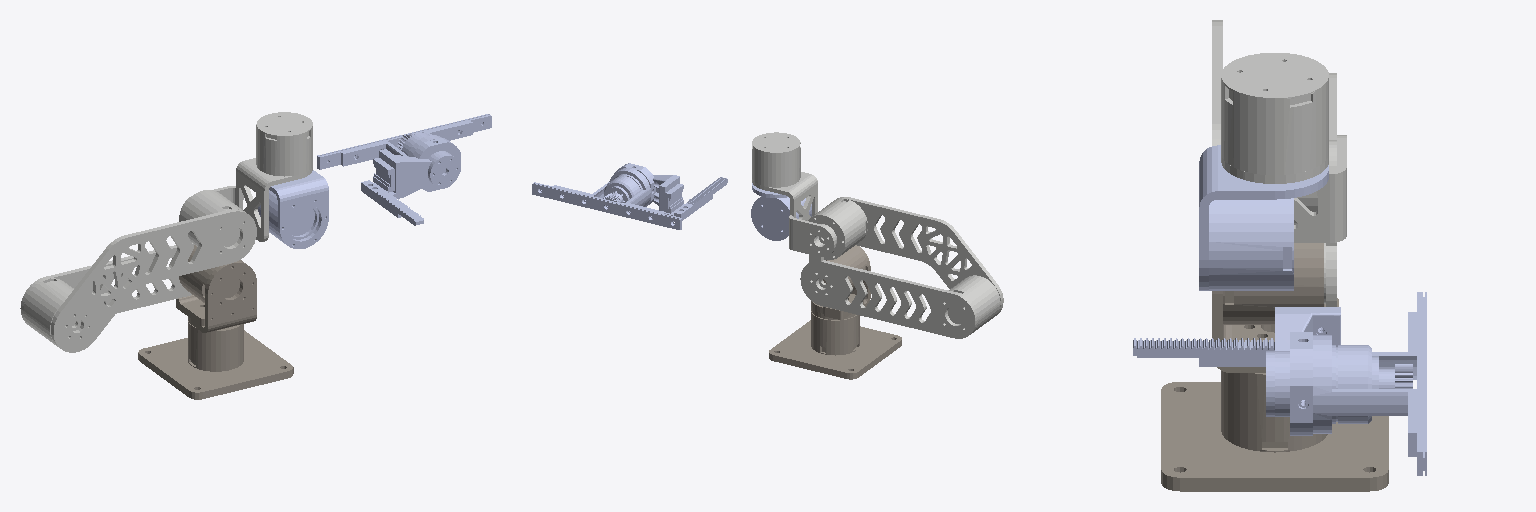
The robot description file, URDF, robot "panther_description":
<?xml version="1.0" encoding="utf-8"?>
<!-- This URDF was automatically created by SolidWorks to URDF Exporter! Originally created by [author] ([email redacted]) 
     Commit Version: 1.6.0-4-g7f85cfe  Build Version: 1.6.7995.38578
     For more information, please see http://wiki.ros.org/sw_urdf_exporter -->
<robot
  name="panther_description">
  <link
    name="base_link">
    <inertial>
      <origin
        xyz="0 -4.4E-05 0.028999"
        rpy="0 0 0" />
      <mass
        value="0.3" />
      <inertia
        ixx="0.000124"
        ixy="0"
        ixz="0"
        iyy="0.000124"
        iyz="0"
        izz="0.000143" />
    </inertial>
    <visual>
      <origin
        xyz="0 0 0"
        rpy="0 0 0" />
      <geometry>
        <mesh
          filename="package://panther_description/meshes/base_link.STL" />
      </geometry>
      <material
        name="">
        <color
          rgba="0.64706 0.61961 0.58824 1" />
      </material>
    </visual>
    <collision>
      <origin
        xyz="0 0 0"
        rpy="0 0 0" />
      <geometry>
        <mesh
          filename="package://panther_description/meshes/base_link.STL" />
      </geometry>
    </collision>
  </link>
  <link
    name="link1">
    <inertial>
      <origin
        xyz="0.00 -0.008491  0.034259"
        rpy="0 0 0" />
      <mass
        value="0.65" />
      <inertia
        ixx="0.000541"
        ixy="-2E-06"
        ixz="1E-06"
        iyy="0.000481"
        iyz="-5E-06"
        izz="0.000362" />
    </inertial>
    <visual>
      <origin
        xyz="0 0 0"
        rpy="0 0 0" />
      <geometry>
        <mesh
          filename="package://panther_description/meshes/link1.STL" />
      </geometry>
      <material
        name="">
        <color
          rgba="0.64706 0.61961 0.58824 1" />
      </material>
    </visual>
    <collision>
      <origin
        xyz="0 0 0"
        rpy="0 0 0" />
      <geometry>
        <mesh
          filename="package://panther_description/meshes/link1.STL" />
      </geometry>
    </collision>
  </link>
  <joint
    name="joint1"
    type="revolute">
    <origin
      xyz="0 0 0.1005"
      rpy="0 0 0" />
    <parent
      link="base_link" />
    <child
      link="link1" />
    <axis
      xyz="0 0 1" />
    <limit
      lower="-3.14"
      upper="3.14"
      effort="3"
      velocity="1" />
  </joint>
  <link
    name="link2">
    <inertial>
      <origin
        xyz="0.124560 0.000000 0.017699"
        rpy="0 0 0" />
      <mass
        value="0.83" />
      <inertia
        ixx="0.000462"
        ixy="0"
        ixz="-0.000548"
        iyy="0.00435"
        iyz="0"
        izz="0.004315" />
    </inertial>
    <visual>
      <origin
        xyz="0 0 0"
        rpy="0 0 0" />
      <geometry>
        <mesh
          filename="package://panther_description/meshes/link2.STL" />
      </geometry>
      <material
        name="">
        <color
          rgba="0.82745 0.82745 0.81961 1" />
      </material>
    </visual>
    <collision>
      <origin
        xyz="0 0 0"
        rpy="0 0 0" />
      <geometry>
        <mesh
          filename="package://panther_description/meshes/link2.STL" />
      </geometry>
    </collision>
  </link>
  <joint
    name="joint2"
    type="revolute">
    <origin
      xyz="0 0 0"
      rpy="1.5708 0 3.1416" />
    <parent
      link="link1" />
    <child
      link="link2" />
    <axis
      xyz="0 0 1" />
    <limit
      lower="-3.14"
      upper="3.14"
      effort="3"
      velocity="1" />
  </joint>
  <link
    name="link3">
    <inertial>
      <origin
        xyz="0.15 0.007521 0.017264"
        rpy="0 0 0" />
      <mass
        value="0.87" />
      <inertia
        ixx="0.000541"
        ixy="-0.000276"
        ixz="-0.000537"
        iyy="0.004264"
        iyz="7.6E-05"
        izz="0.004338" />
    </inertial>
    <visual>
      <origin
        xyz="0 0 0"
        rpy="0 0 0" />
      <geometry>
        <mesh
          filename="package://panther_description/meshes/link3.STL" />
      </geometry>
      <material
        name="">
        <color
          rgba="0.82745 0.82745 0.81961 1" />
      </material>
    </visual>
    <collision>
      <origin
        xyz="0 0 0"
        rpy="0 0 0" />
      <geometry>
        <mesh
          filename="package://panther_description/meshes/link3.STL" />
      </geometry>
    </collision>
  </link>
  <joint
    name="joint3"
    type="revolute">
    <origin
      xyz="0.18 0 0"
      rpy="3.1416 0 2.8349" />
    <parent
      link="link2" />
    <child
      link="link3" />
    <axis
      xyz="0 0 1" />
    <limit
      lower="-3.14"
      upper="3.14"
      effort="3"
      velocity="1" />
  </joint>
  <link
    name="link4">
    <inertial>
      <origin
        xyz="0.08 -0.053910 0.004474"
        rpy="0 0 0" />
      <mass
        value="0.427" />
      <inertia
        ixx="0.000559"
        ixy="-0.000294"
        ixz="-0.000102"
        iyy="0.000489"
        iyz="0.000104"
        izz="0.000773" />
    </inertial>
    <visual>
      <origin
        xyz="0 0 0"
        rpy="0 0 0" />
      <geometry>
        <mesh
          filename="package://panther_description/meshes/link4.STL" />
      </geometry>
      <material
        name="">
        <color
          rgba="0.82745 0.82745 0.81961 1" />
      </material>
    </visual>
    <collision>
      <origin
        xyz="0 0 0"
        rpy="0 0 0" />
      <geometry>
        <mesh
          filename="package://panther_description/meshes/link4.STL" />
      </geometry>
    </collision>
  </link>
  <joint
    name="joint4"
    type="revolute">
    <origin
      xyz="0.18881 0 0"
      rpy="3.1416 0 -0.30668" />
    <parent
      link="link3" />
    <child
      link="link4" />
    <axis
      xyz="0 0 1" />
    <limit
      lower="-3.14"
      upper="3.14"
      effort="3"
      velocity="1" />
  </joint>
  <link
    name="link5">
    <inertial>
      <origin
        xyz="0.013 0.000000  -0.007913"
        rpy="0 0 0" />
      <mass
        value="0.39" />
      <inertia
        ixx="0.000251"
        ixy="0"
        ixz="0"
        iyy="0.000248"
        iyz="-1.5E-05"
        izz="0.000172" />
    </inertial>
    <visual>
      <origin
        xyz="0 0 0"
        rpy="0 0 0" />
      <geometry>
        <mesh
          filename="package://panther_description/meshes/link5.STL" />
      </geometry>
      <material
        name="">
        <color
          rgba="0.79216 0.81961 0.93333 1" />
      </material>
    </visual>
    <collision>
      <origin
        xyz="0 0 0"
        rpy="0 0 0" />
      <geometry>
        <mesh
          filename="package://panther_description/meshes/link5.STL" />
      </geometry>
    </collision>
  </link>
  <joint
    name="joint5"
    type="revolute">
    <origin
      xyz="0.08 0 0"
      rpy="-1.5708 1.5708 0" />
    <parent
      link="link4" />
    <child
      link="link5" />
    <axis
      xyz="0 0 1" />
    <limit
      lower="-3.14"
      upper="3.14"
      effort="3"
      velocity="1" />
  </joint>
  <link
    name="link6">
    <inertial>
      <origin
        xyz="0.000018 -0.000159 0.09"
        rpy="0 0 0" />
      <mass
        value="0.41" />
      <inertia
        ixx="0.002121"
        ixy="4E-06"
        ixz="0"
        iyy="0.002522"
        iyz="1E-06"
        izz="0.000475" />
    </inertial>
    <visual>
      <origin
        xyz="0 0 0"
        rpy="0 0 0" />
      <geometry>
        <mesh
          filename="package://panther_description/meshes/link6.STL" />
      </geometry>
      <material
        name="">
        <color
          rgba="0.82745 0.82745 0.81961 1" />
      </material>
    </visual>
    <collision>
      <origin
        xyz="0 0 0"
        rpy="0 0 0" />
      <geometry>
        <mesh
          filename="package://panther_description/meshes/link6.STL" />
      </geometry>
    </collision>
  </link>
  <joint
    name="joint6"
    type="revolute">
    <origin
      xyz="0 -0.036 0"
      rpy="1.5708 0 0" />
    <parent
      link="link5" />
    <child
      link="link6" />
    <axis
      xyz="0 0 1" />
    <limit
      lower="-3.14"
      upper="3.14"
      effort="3"
      velocity="1" />
  </joint>
  <link
    name="gripper_centor_link">
    <inertial>
      <origin
        xyz="-0.10705 -0.00028388 -3.5921E-09"
        rpy="0 0 0" />
      <mass
        value="0.000" />
      <inertia
        ixx="0.00012365"
        ixy="-5.3605E-07"
        ixz="-1.3099E-12"
        iyy="0.00013341"
        iyz="-1.2272E-16"
        izz="3.1522E-05" />
    </inertial>
    <visual>
      <origin
        xyz="0 0 0"
        rpy="0 0 0" />
      <geometry>
        <mesh
          filename="package://panther_description/meshes/gripper_centor_link.STL" />
      </geometry>
      <material
        name="">
        <color
          rgba="0.79216 0.81961 0.93333 1" />
      </material>
    </visual>
    <collision>
      <origin
        xyz="0 0 0"
        rpy="0 0 0" />
      <geometry>
        <mesh
          filename="package://panther_description/meshes/gripper_centor_link.STL" />
      </geometry>
    </collision>
  </link>
  <joint
    name="gripper_centor_joint"
    type="fixed">
    <origin
      xyz="0 0 0.148"
      rpy="0 -1.5708 0" />
    <parent
      link="link6" />
    <child
      link="gripper_centor_link" />
    <axis
      xyz="0 0 0" />
    <limit
      lower="-3.14"
      upper="3.14"
      effort="3"
      velocity="1" />
  </joint>
  <link
    name="gripper_1_link">
    <inertial>
      <origin
        xyz="-0.057427 0.0029609 0.0073892"
        rpy="0 0 0" />
      <mass
        value="0.0000" />
      <inertia
        ixx="1.5429E-05"
        ixy="6.9755E-07"
        ixz="6.4561E-07"
        iyy="1.5841E-05"
        iyz="8.9712E-07"
        izz="1.0925E-05" />
    </inertial>
    <visual>
      <origin
        xyz="0 0 0"
        rpy="0 0 0" />
      <geometry>
        <mesh
          filename="package://panther_description/meshes/gripper_1_link.STL" />
      </geometry>
      <material
        name="">
        <color
          rgba="0.79216 0.81961 0.93333 1" />
      </material>
    </visual>
    <collision>
      <origin
        xyz="0 0 0"
        rpy="0 0 0" />
      <geometry>
        <mesh
          filename="package://panther_description/meshes/gripper_1_link.STL" />
      </geometry>
    </collision>
  </link>
  <joint
    name="gripper_1_joint"
    type="prismatic">
    <origin
      xyz="0 0 0.148"
      rpy="0 -1.5708 0" />
    <parent
      link="link6" />
    <child
      link="gripper_1_link" />
    <axis
      xyz="0 0 -1" />
    <limit
      lower="0"
      upper="0.06"
      effort="0.18"
      velocity="1" />
  </joint>
  <link
    name="gripper_2_link">
    <inertial>
      <origin
        xyz="-0.057387 -0.0029433 -0.0075697"
        rpy="0 0 0" />
      <mass
        value="0.000" />
      <inertia
        ixx="1.5197E-05"
        ixy="-6.9738E-07"
        ixz="-6.4563E-07"
        iyy="1.5609E-05"
        iyz="8.9915E-07"
        izz="1.0924E-05" />
    </inertial>
    <visual>
      <origin
        xyz="0 0 0"
        rpy="0 0 0" />
      <geometry>
        <mesh
          filename="package://panther_description/meshes/gripper_2_link.STL" />
      </geometry>
      <material
        name="">
        <color
          rgba="0.79216 0.81961 0.93333 1" />
      </material>
    </visual>
    <collision>
      <origin
        xyz="0 0 0"
        rpy="0 0 0" />
      <geometry>
        <mesh
          filename="package://panther_description/meshes/gripper_2_link.STL" />
      </geometry>
    </collision>
  </link>
  <joint
    name="gripper_2_joint"
    type="prismatic">
    <origin
      xyz="0 0 0.148"
      rpy="0 -1.5708 0" />
    <parent
      link="link6" />
    <child
      link="gripper_2_link" />
    <axis
      xyz="0 0 -1" />
    <limit
      lower="0"
      upper="0.06"
      effort="0.18"
      velocity="1" />
    <mimic
      joint="gripper_1_joint"
      multiplier="-1"
      offset="0" />
  </joint>
</robot>

--- Render facts (derived) ---
Views: 3 orthographic renders of the robot side by side, from view 1: azimuth 30°, elevation 25°; view 2: azimuth 150°, elevation 25°; view 3: azimuth 270°, elevation 25°.
Model panther_description with 10 links and 9 joints (6 revolute, 2 prismatic, 1 fixed), rooted at base_link, posed every joint at zero.
Links seen in each view (by area): view 1: link3, base_link, link4, gripper_centor_link, link1, link2, link5, gripper_1_link, gripper_2_link; view 2: link2, link3, base_link, link4, gripper_centor_link, link5, gripper_1_link, link1; view 3: base_link, link4, gripper_centor_link, link5, link1, gripper_1_link, link3, gripper_2_link, link2.
Boxes of the visible links, x1,y1,x2,y2 form: link3: [51, 190, 256, 352]; base_link: [138, 321, 293, 399]; link4: [180, 112, 312, 241]; gripper_centor_link: [317, 114, 491, 191]; link1: [176, 245, 256, 332]; link2: [20, 243, 193, 344]; link5: [258, 170, 328, 248]; gripper_1_link: [361, 149, 431, 225]; gripper_2_link: [361, 152, 443, 225]; link2: [800, 260, 1000, 338]; link3: [808, 197, 1003, 315]; base_link: [769, 311, 901, 379]; link4: [752, 132, 836, 262]; gripper_centor_link: [532, 163, 681, 229]; link5: [751, 183, 811, 240]; gripper_1_link: [653, 175, 727, 215]; link1: [811, 245, 870, 319]; base_link: [1161, 371, 1388, 491]; link4: [1221, 53, 1346, 245]; gripper_centor_link: [1266, 292, 1426, 475]; link5: [1199, 145, 1328, 290]; link1: [1212, 243, 1338, 372]; gripper_1_link: [1133, 307, 1340, 364]; link3: [1212, 20, 1317, 224]; gripper_2_link: [1137, 310, 1339, 366]; link2: [1324, 73, 1336, 306].
Size in the robot's own frame: 0.5725 by 0.1552 by 0.2515 metres.
Meshes: 10 distinct files referenced, 9 mesh visuals loaded (9 binary STL); not drawn: 1 (reference not matched to a file when rendering).